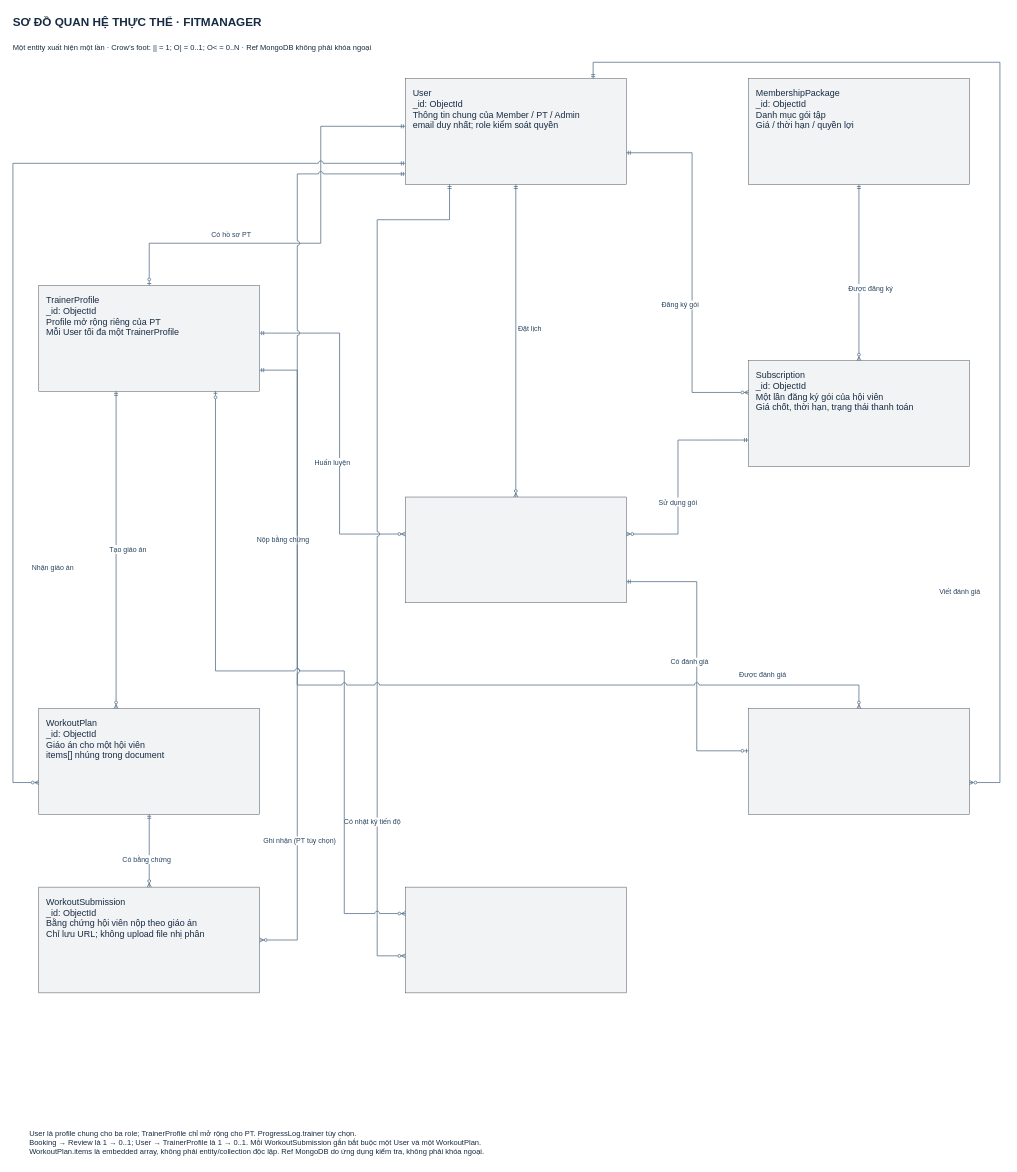
This 1017x1172 diagram has some shape labels left out. The shapes that lost their labels are listed below. From the top down, each one's box as (x1, y1, x2, y2) in pixels, then its label:
(405, 497, 626, 603): Booking _id: ObjectId Một buổi hẹn PT của hội viên Gắn một Subscription
(748, 708, 969, 814): Review _id: ObjectId Đánh giá một buổi hoàn thành Mỗi Booking tối đa một Review
(405, 887, 626, 993): ProgressLog _id: ObjectId Nhật ký chỉ số theo ngày PT ghi nhận có thể để trống
